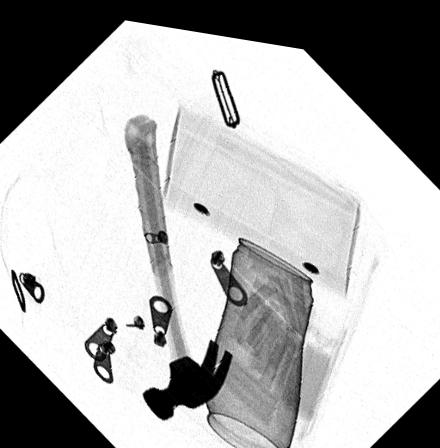Hammer: (121, 106, 233, 415)
